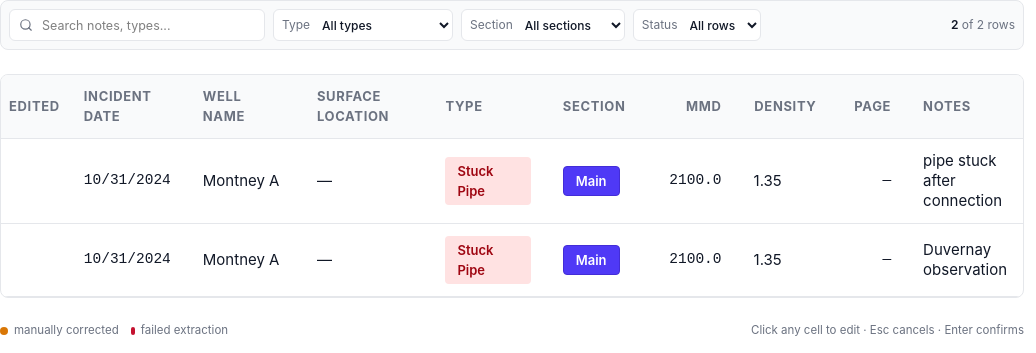
OccurrenceTable › global text search filters rows
Type "Duvernay" into the field named "Search occurrences" at [137, 25], box [9,9,265,41]
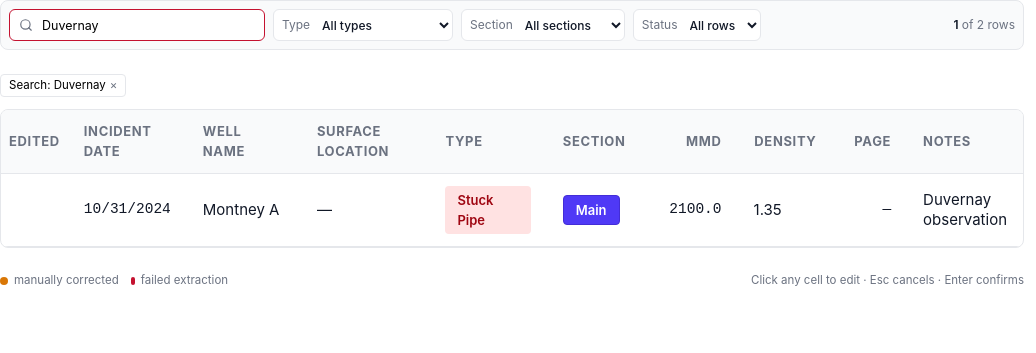
Expected: the text "Duvernay observation" is shown, [907,174,1023,247]
Expected: the text "pipe stuck after connection" is gone
